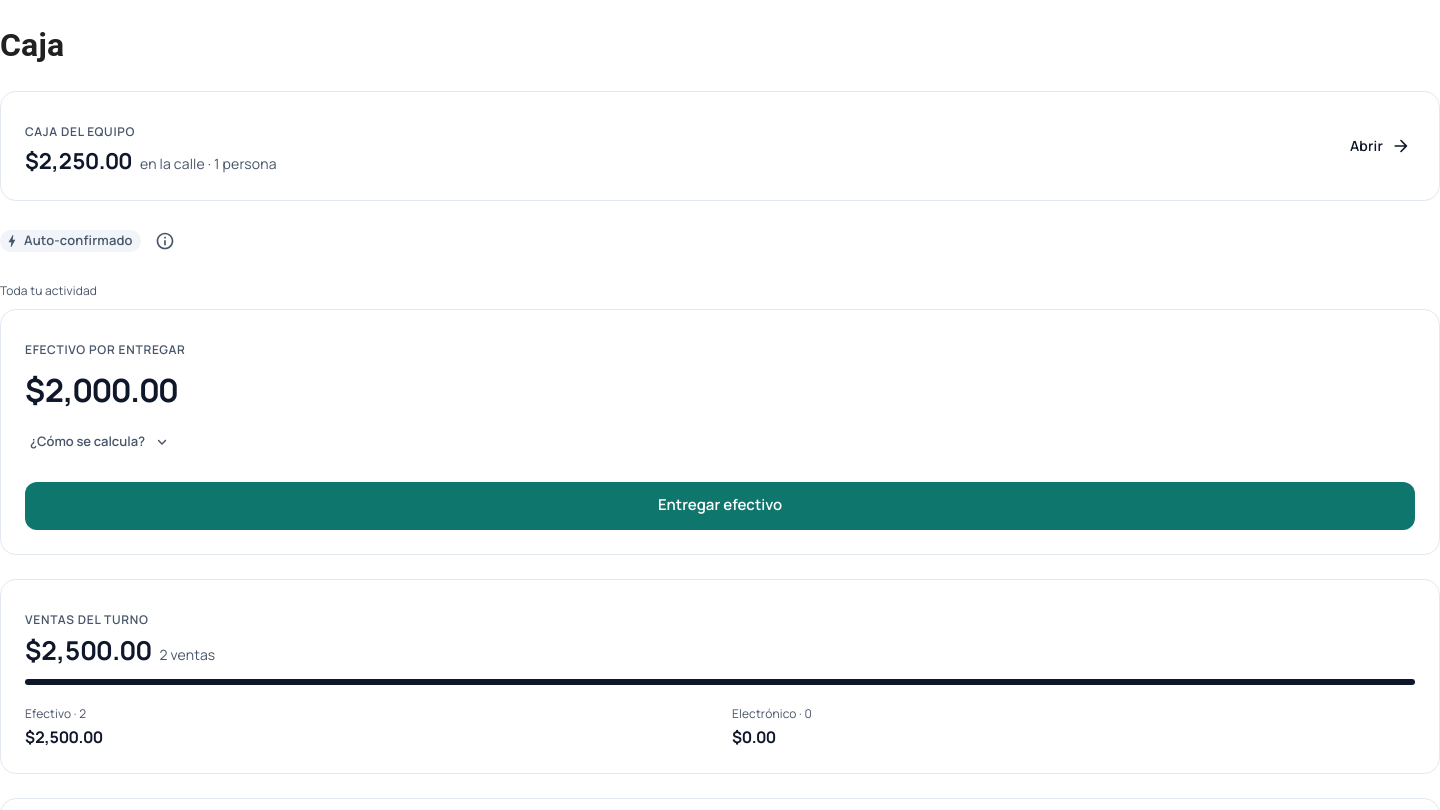
Test: BalanceScreen — the hand-in is a sheet (admin) › opens a BottomSheet, not a centred Dialog, and carries the Nota field
Step 1. Click the button "Entregar efectivo" → point(720, 506), box [25,482,1415,530]
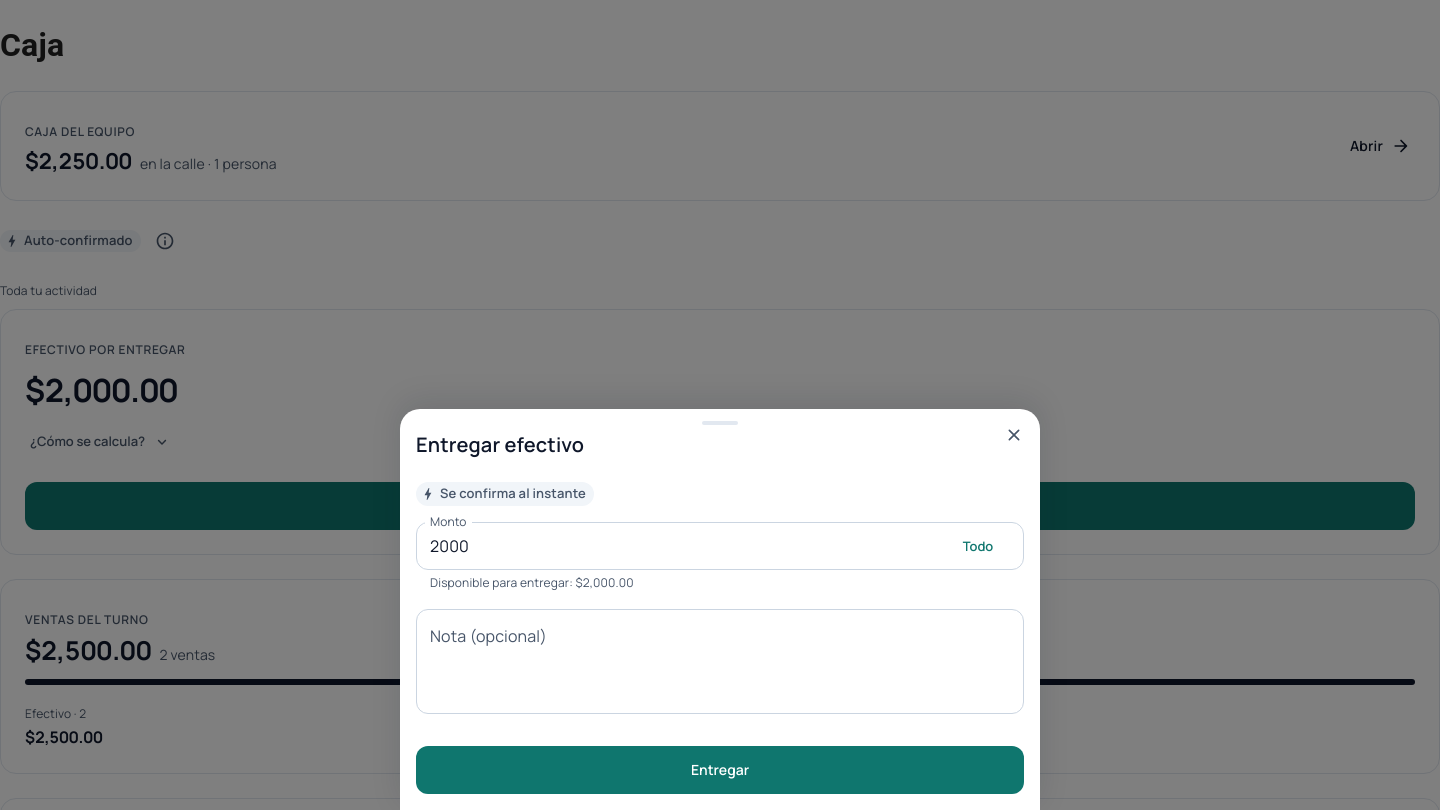
Now the element that starts with "Entregar efectivo" is shown
Now the text box labelled "Nota (opcional)" is shown, box [430,626,1010,698]
Now the button "Entregar" is shown, box [416,746,1024,794]
